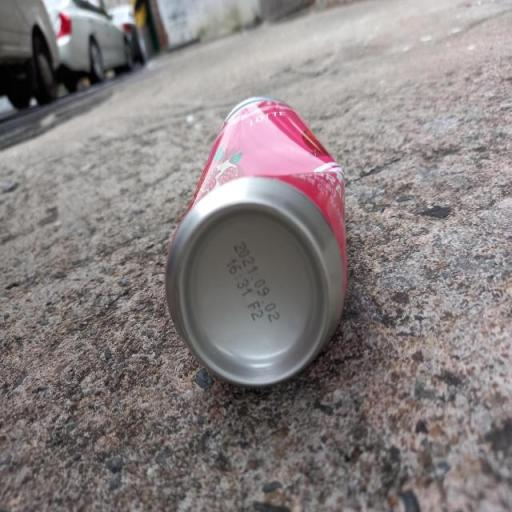metal: (155, 74, 355, 414)
